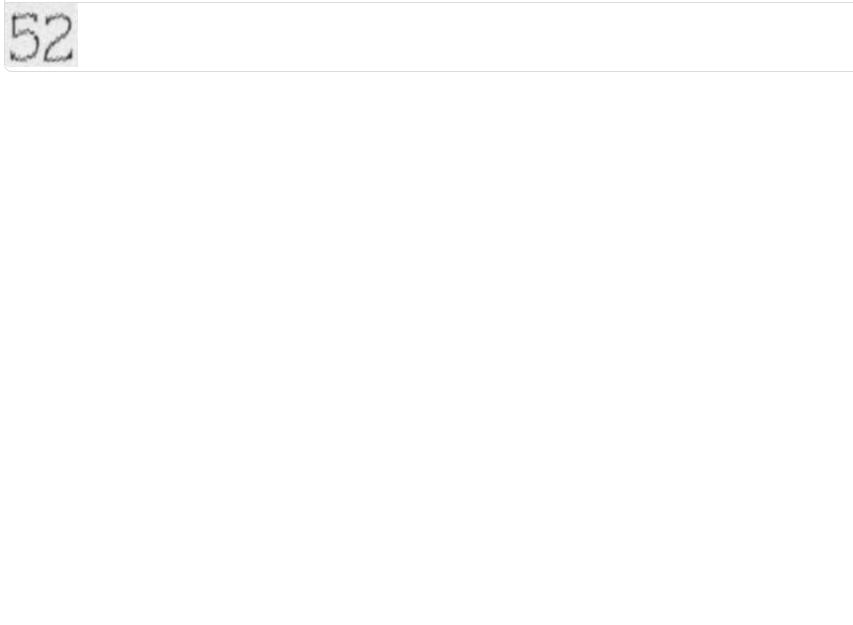text: (8, 9, 75, 66)
